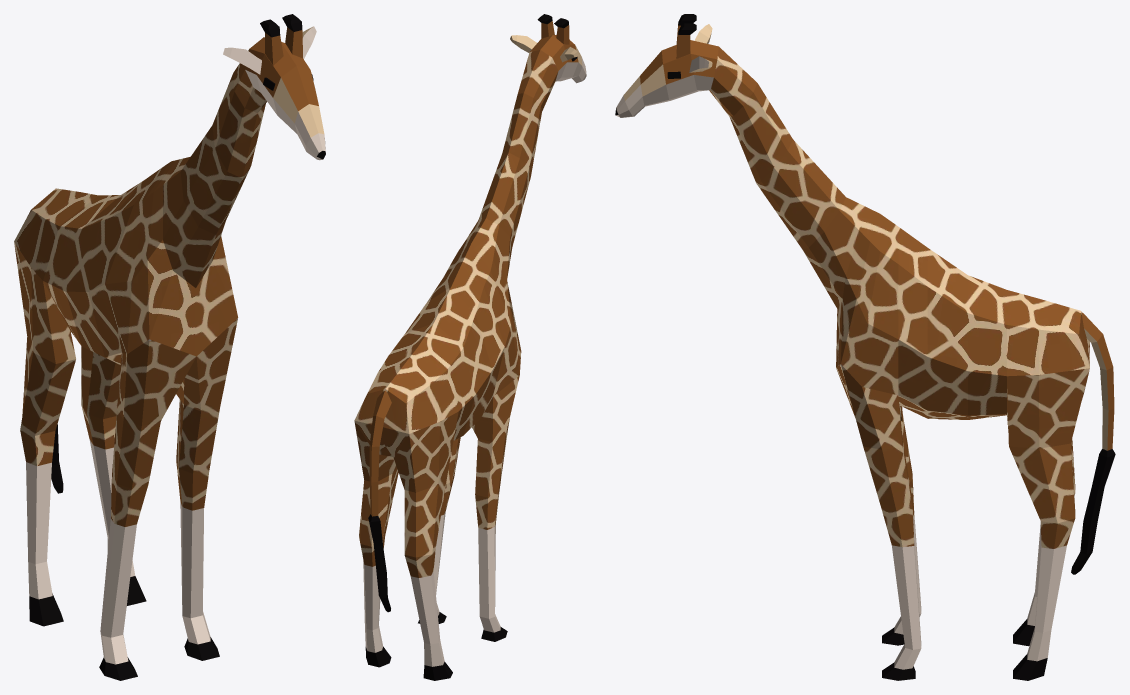
File: prop_pz_giraffe.glb
The picture shows the model from 3 angles, left to right: view 1: azimuth 30°, elevation 25°; view 2: azimuth 150°, elevation 25°; view 3: azimuth 270°, elevation 25°; orthographic projection. The views are drawn at different scales.
Parts seen in each view (by area): view 1: Geo_Giraffe; view 2: Geo_Giraffe; view 3: Geo_Giraffe.
Boxes of the visible parts, left/top/right/bottom form: Geo_Giraffe: left=14, top=14, right=325, bottom=680; Geo_Giraffe: left=354, top=14, right=586, bottom=680; Geo_Giraffe: left=615, top=14, right=1115, bottom=680.
Size of the model in its own units: 58.77 by 362 by 258.
1 material, 1 textured.
